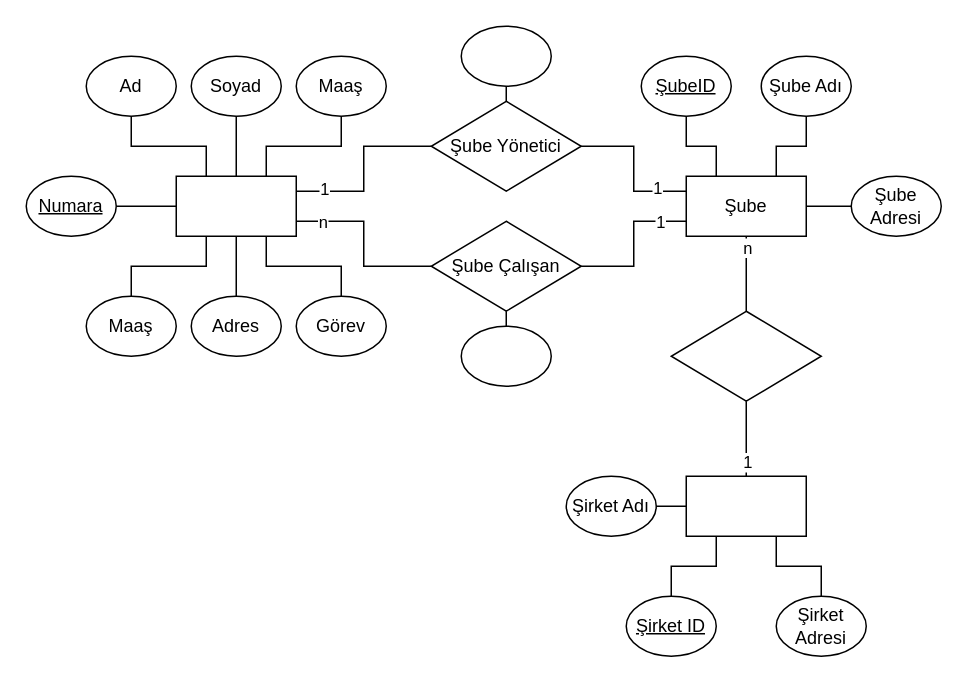
Image size: 968x683. Some labels were removed from this diagram. The shapes that lost their labels are listed below. From the top down, each one's centre as x and y in pixels, then its label:
point (505, 55): Yönetici ID
point (235, 205): Eleman
point (505, 355): ÇalışanID
point (745, 355): Sahiptir
point (745, 505): Şirket
